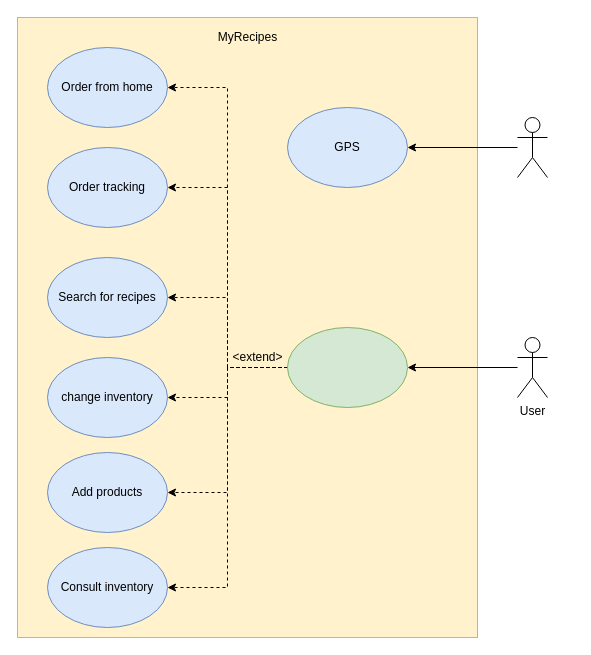
The diagram is 591 pixels wide and 655 high, and some of its shapes have lost their labels. The centre of each missing label's shape, as x and y in pixels:
"Delivery person" goes at point 532,147.
"Log In" goes at point 347,367.
